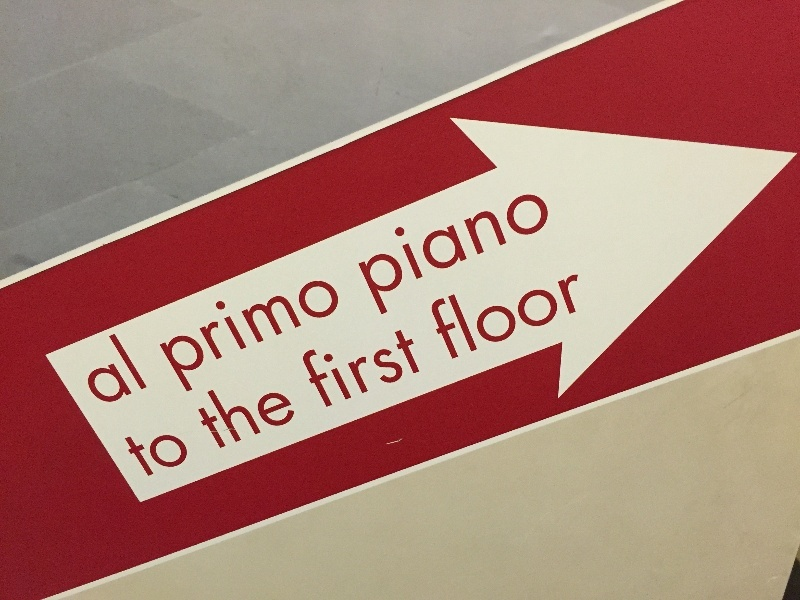text: (545, 175, 561, 321), (161, 253, 176, 399), (177, 253, 192, 399), (193, 253, 208, 399), (209, 253, 224, 399), (225, 253, 240, 399), (241, 253, 256, 399), (257, 253, 272, 399), (273, 253, 288, 399), (289, 253, 304, 399), (305, 253, 320, 399), (321, 253, 336, 399), (353, 175, 368, 321), (369, 175, 384, 321), (385, 175, 400, 321), (401, 175, 416, 321), (417, 175, 432, 321), (433, 175, 448, 321), (449, 175, 464, 321), (465, 175, 480, 321), (481, 175, 496, 321), (497, 175, 512, 321), (513, 175, 528, 321), (529, 175, 544, 321), (193, 358, 208, 460), (209, 358, 224, 460), (225, 358, 240, 460), (241, 358, 256, 460), (257, 358, 272, 460), (273, 358, 288, 460), (305, 314, 320, 414), (321, 314, 336, 414), (337, 314, 352, 414), (353, 314, 368, 414), (369, 314, 384, 414), (385, 314, 400, 414), (401, 314, 416, 414), (150, 253, 160, 399), (433, 270, 448, 366), (449, 270, 464, 366), (465, 270, 480, 366), (481, 270, 496, 366), (497, 270, 512, 366), (513, 270, 528, 366), (529, 270, 544, 366), (545, 270, 560, 366), (561, 270, 576, 366), (337, 253, 346, 399), (81, 328, 96, 410), (97, 328, 112, 410), (113, 328, 128, 410), (129, 328, 144, 410), (417, 314, 429, 414), (289, 358, 300, 460), (293, 314, 304, 414), (177, 429, 193, 484), (129, 429, 144, 484), (145, 429, 160, 484), (161, 429, 176, 484), (424, 270, 432, 366), (119, 429, 128, 484), (577, 270, 582, 366), (349, 175, 352, 321), (188, 358, 192, 460), (145, 328, 149, 410)
